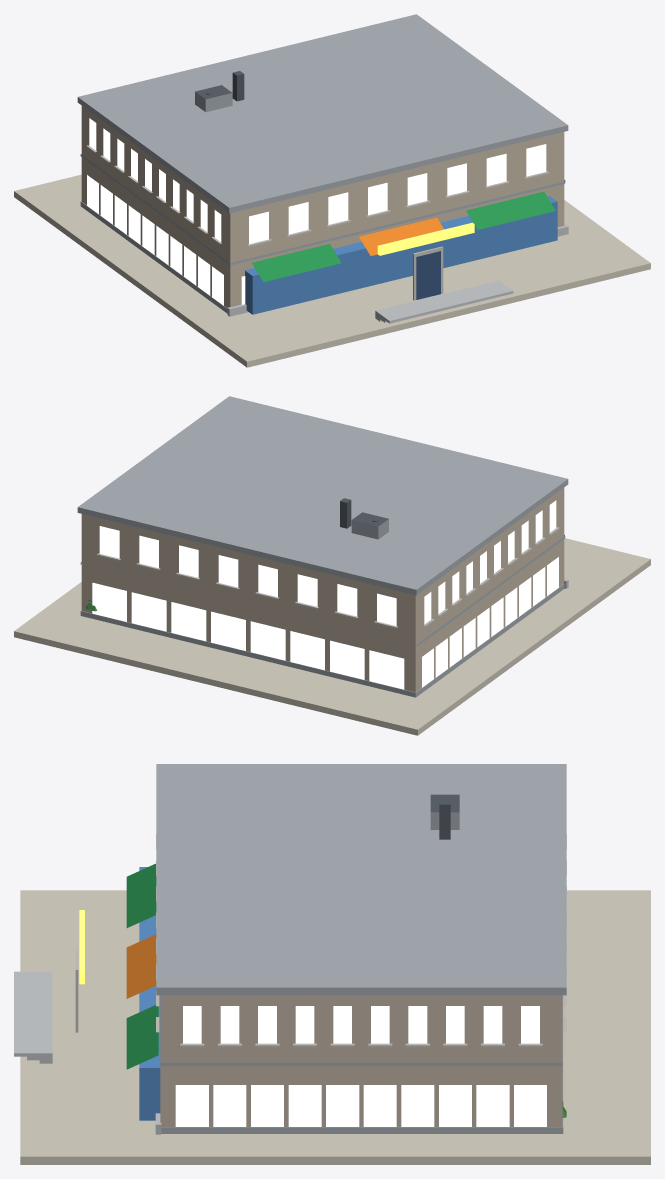
3 views of the same model, one above another, from view 1: azimuth 30°, elevation 25°; view 2: azimuth 150°, elevation 25°; view 3: azimuth 270°, elevation 25° (orthographic). The views are drawn at different scales.
Parts seen in each view (by area): view 1: b11_x2; view 2: b11_x2; view 3: b11_x2.
Part boxes in pixels (x1,y1,x2,y2): b11_x2: (14,14,650,367); b11_x2: (14,396,650,735); b11_x2: (14,764,650,1164).
Size of the model in its own units: 1.96 by 0.665 by 1.98.
